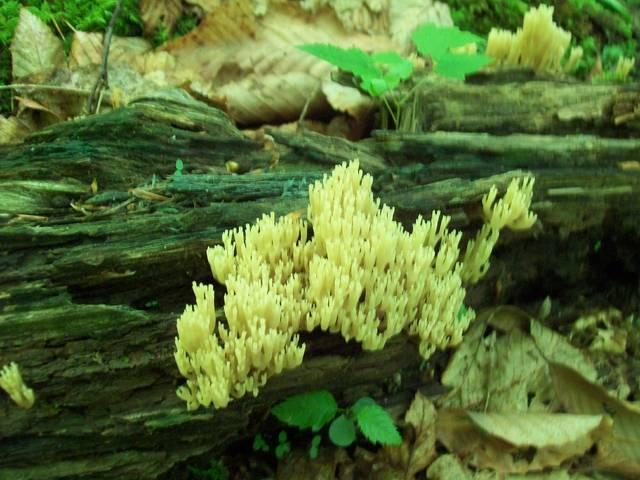edible_mushroom: (171, 156, 537, 411)
